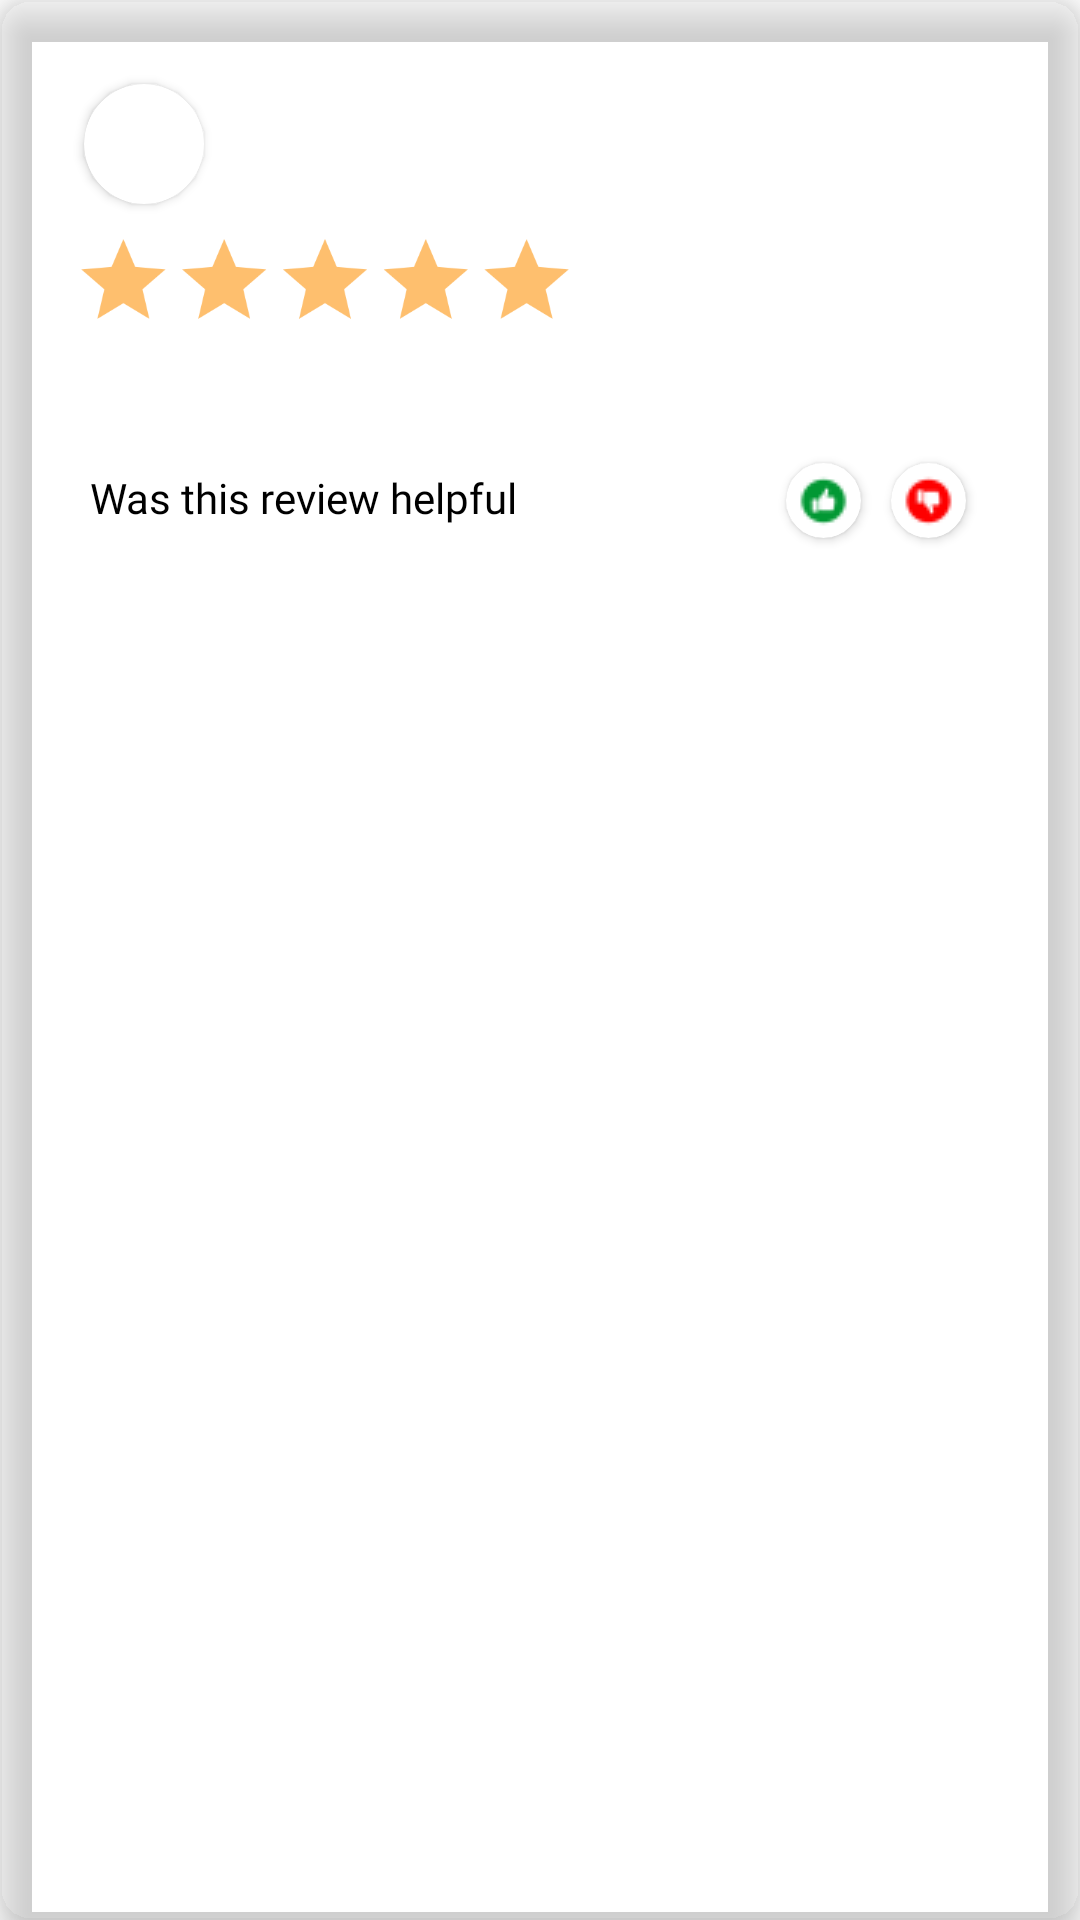

Screen size 1080w x 1920h. Icon name, then its box in pixels as (x1, y1, x2, y2):
dislike: (899, 478, 966, 538)
like: (793, 478, 861, 538)
